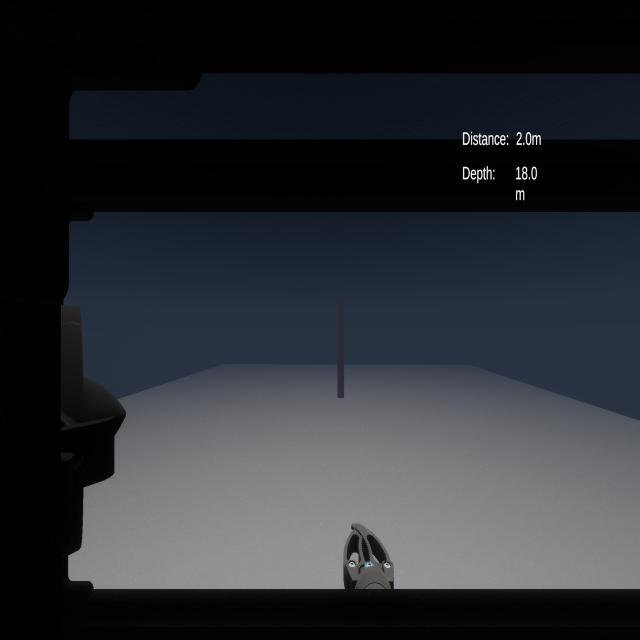Depth: (458, 160, 545, 207)
Distance: (457, 125, 548, 151)
Pole: (328, 286, 353, 408)
